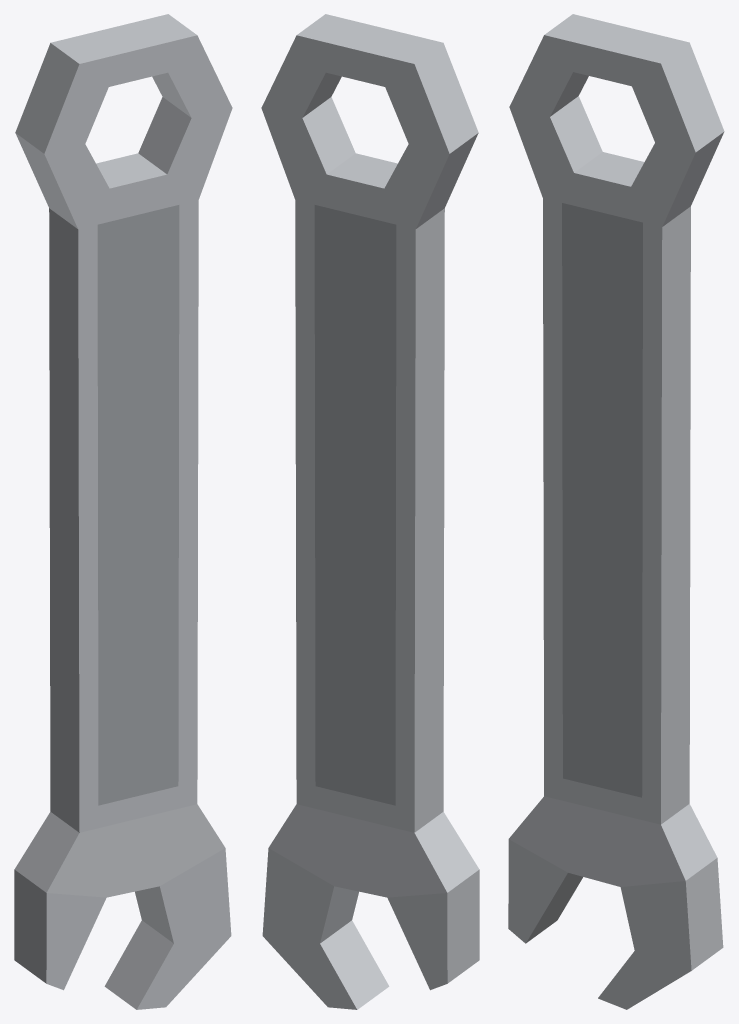
Rendered from SM_Item_Spanner_02.fbx.
3 views of the same model, side by side, from view 1: azimuth 30°, elevation 25°; view 2: azimuth 150°, elevation 25°; view 3: azimuth 330°, elevation 25° (orthographic).
Visible parts, largest first — view 1: SM_Item_Spanner_02; view 2: SM_Item_Spanner_02; view 3: SM_Item_Spanner_02.
Boxes of the visible parts, bbox=[...] form: SM_Item_Spanner_02: bbox=[14, 14, 232, 1009]; SM_Item_Spanner_02: bbox=[261, 14, 479, 1009]; SM_Item_Spanner_02: bbox=[508, 14, 724, 1009].
Size of the model in its own units: 9.4 by 45.93 by 2.78.
